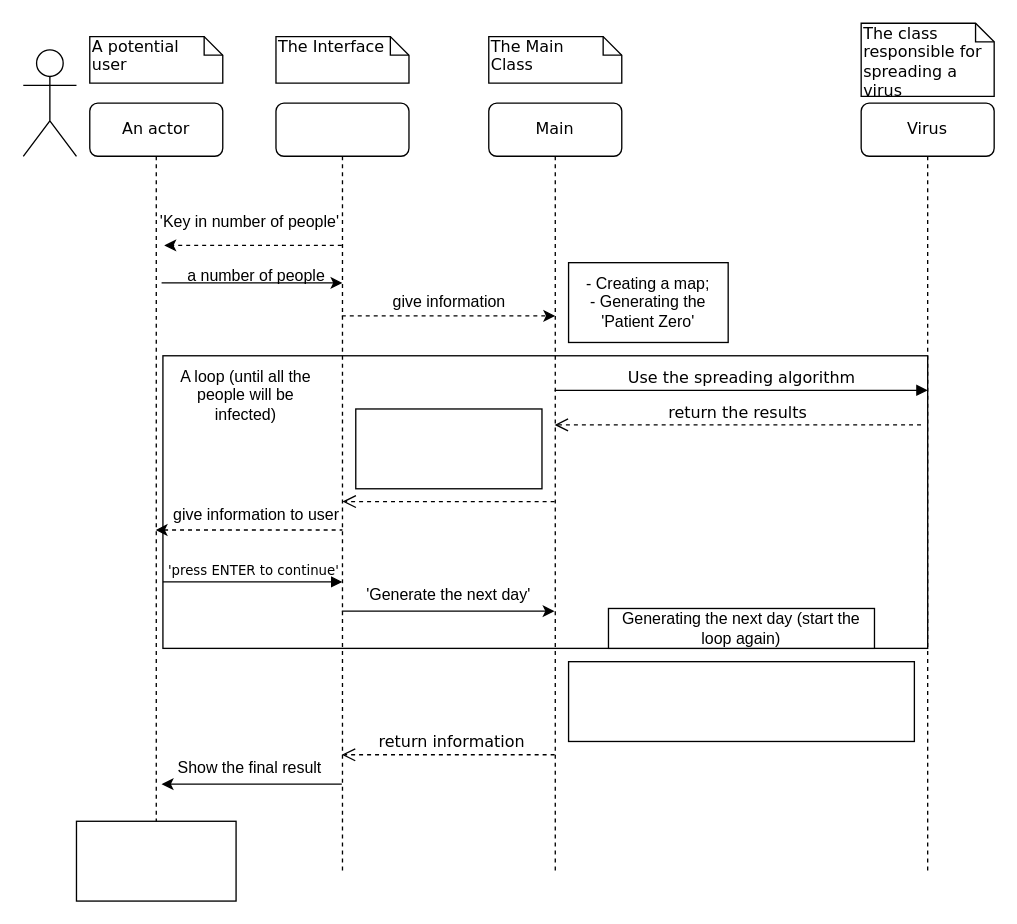
This 1017x924 diagram has some shape labels left out. The shapes that lost their labels are listed below. From the top down, each one's centre as x and y in pixels, then its label:
the point at 448,448: Generate 'Day X' report
the point at 342,488: Interface
the point at 740,700: All the people are infected
the point at 155,860: The end of the program
